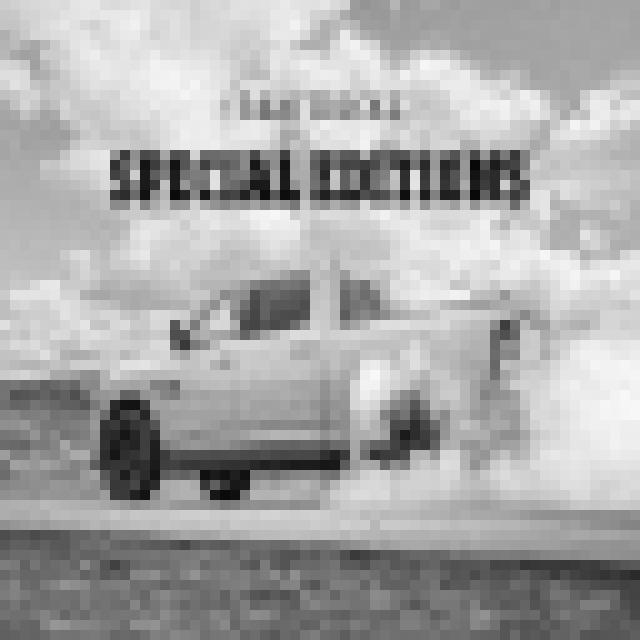trucks: (84, 255, 558, 519)
